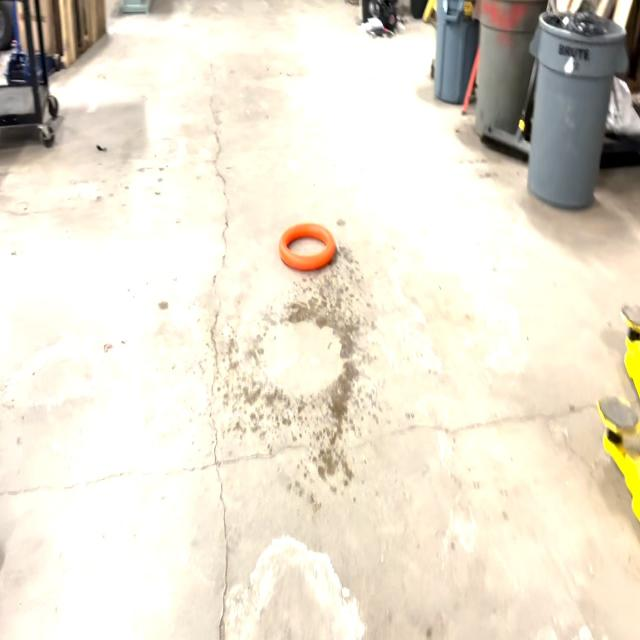note: (279, 223, 339, 276)
